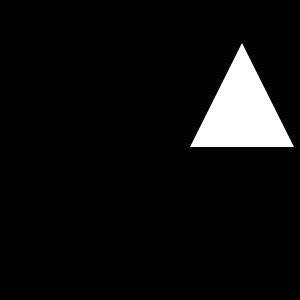triangle: (190, 43, 294, 147)
